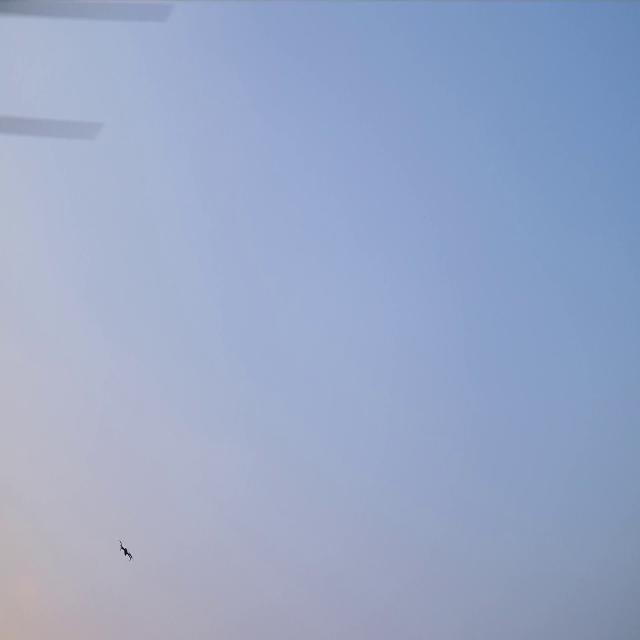UAV: (118, 536, 135, 564)
